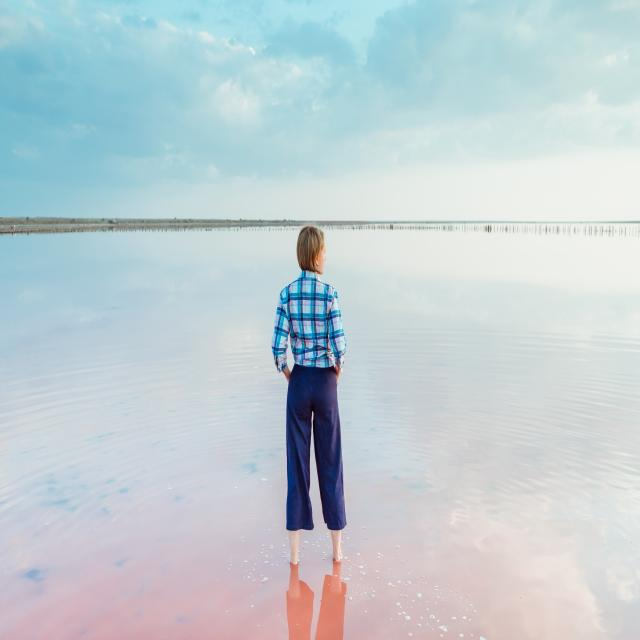standing: (269, 223, 354, 578)
